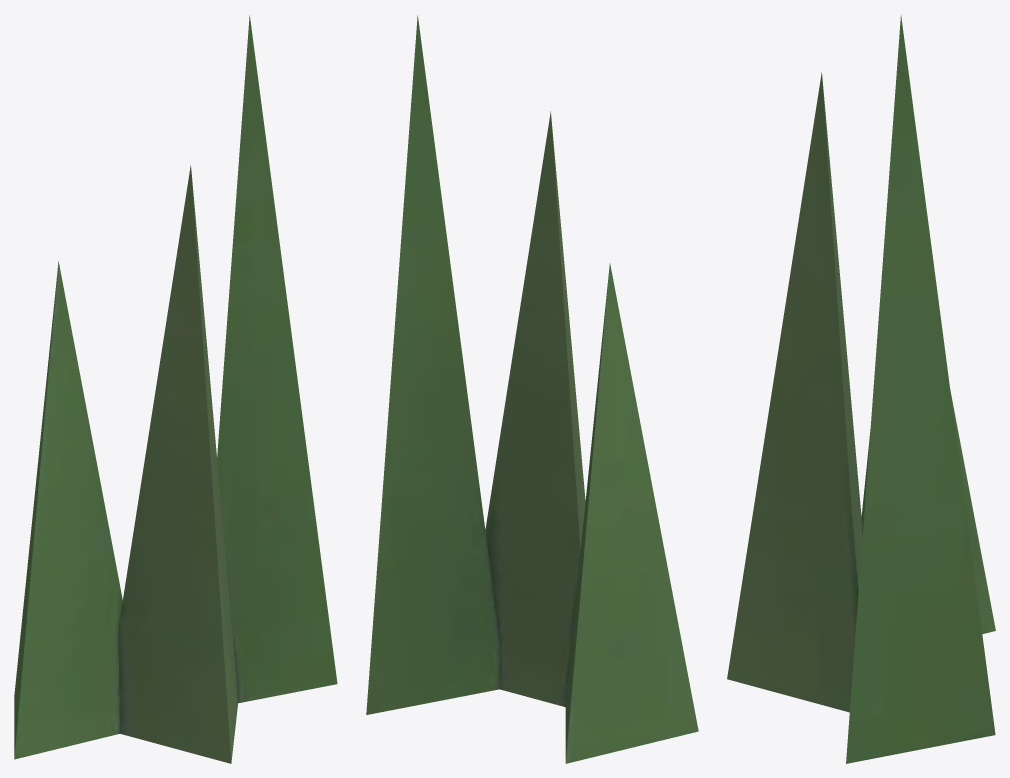
The model's file is life-plant-grass.glb.
The picture shows the model from 3 angles, left to right: view 1: azimuth 30°, elevation 25°; view 2: azimuth 150°, elevation 25°; view 3: azimuth 270°, elevation 25°; orthographic projection. The views are drawn at different scales.
Visible parts, largest first — view 1: life-plant-grass; view 2: life-plant-grass; view 3: life-plant-grass.
Part boxes in pixels (left/top/right/bottom): life-plant-grass: left=14, top=15, right=337, bottom=763; life-plant-grass: left=366, top=15, right=698, bottom=763; life-plant-grass: left=727, top=15, right=995, bottom=763.
Bounding box in the file's own units: 0.0502 × 0.1 × 0.034.
Materials: 1 (1 with a texture image).
